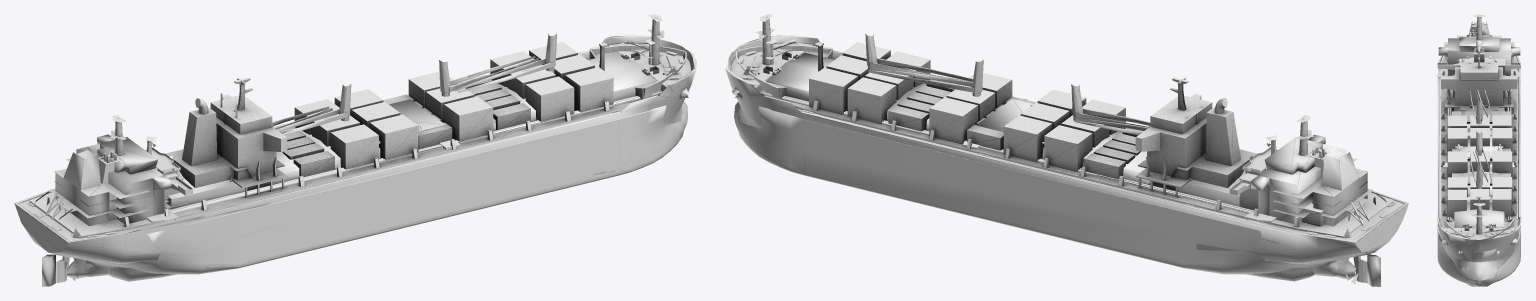
The model's file is ship2.glb.
The picture shows the model from 3 angles, left to right: view 1: azimuth 30°, elevation 25°; view 2: azimuth 150°, elevation 25°; view 3: azimuth 270°, elevation 25°; orthographic projection. The views are drawn at different scales.
Visible parts, largest first — view 1: Ship1, Ship2, Ship3; view 2: Ship1, Ship2, Ship3; view 3: Ship1, Ship3, Ship2.
Boxes of the visible parts, bbox=[...] form: Ship1: bbox=[29, 42, 686, 281]; Ship2: bbox=[45, 39, 689, 282]; Ship3: bbox=[14, 14, 696, 286]; Ship1: bbox=[736, 42, 1393, 281]; Ship2: bbox=[732, 38, 1371, 282]; Ship3: bbox=[725, 14, 1408, 286]; Ship1: bbox=[1441, 40, 1517, 286]; Ship3: bbox=[1437, 14, 1521, 286]; Ship2: bbox=[1437, 30, 1520, 284].
Bounding box in the file's own units: 0.5739 × 0.135 × 0.1004.
Materials: 3 (3 with a texture image).
